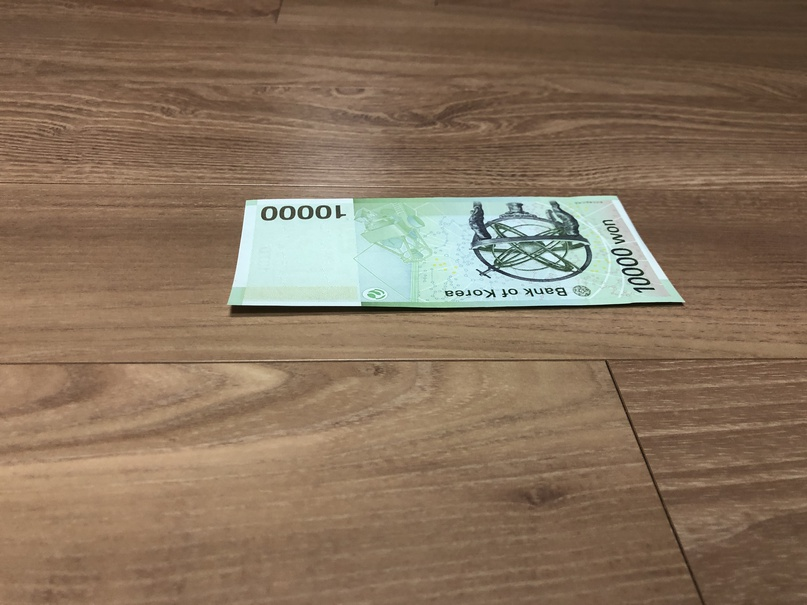10000won: (226, 195, 688, 307)
